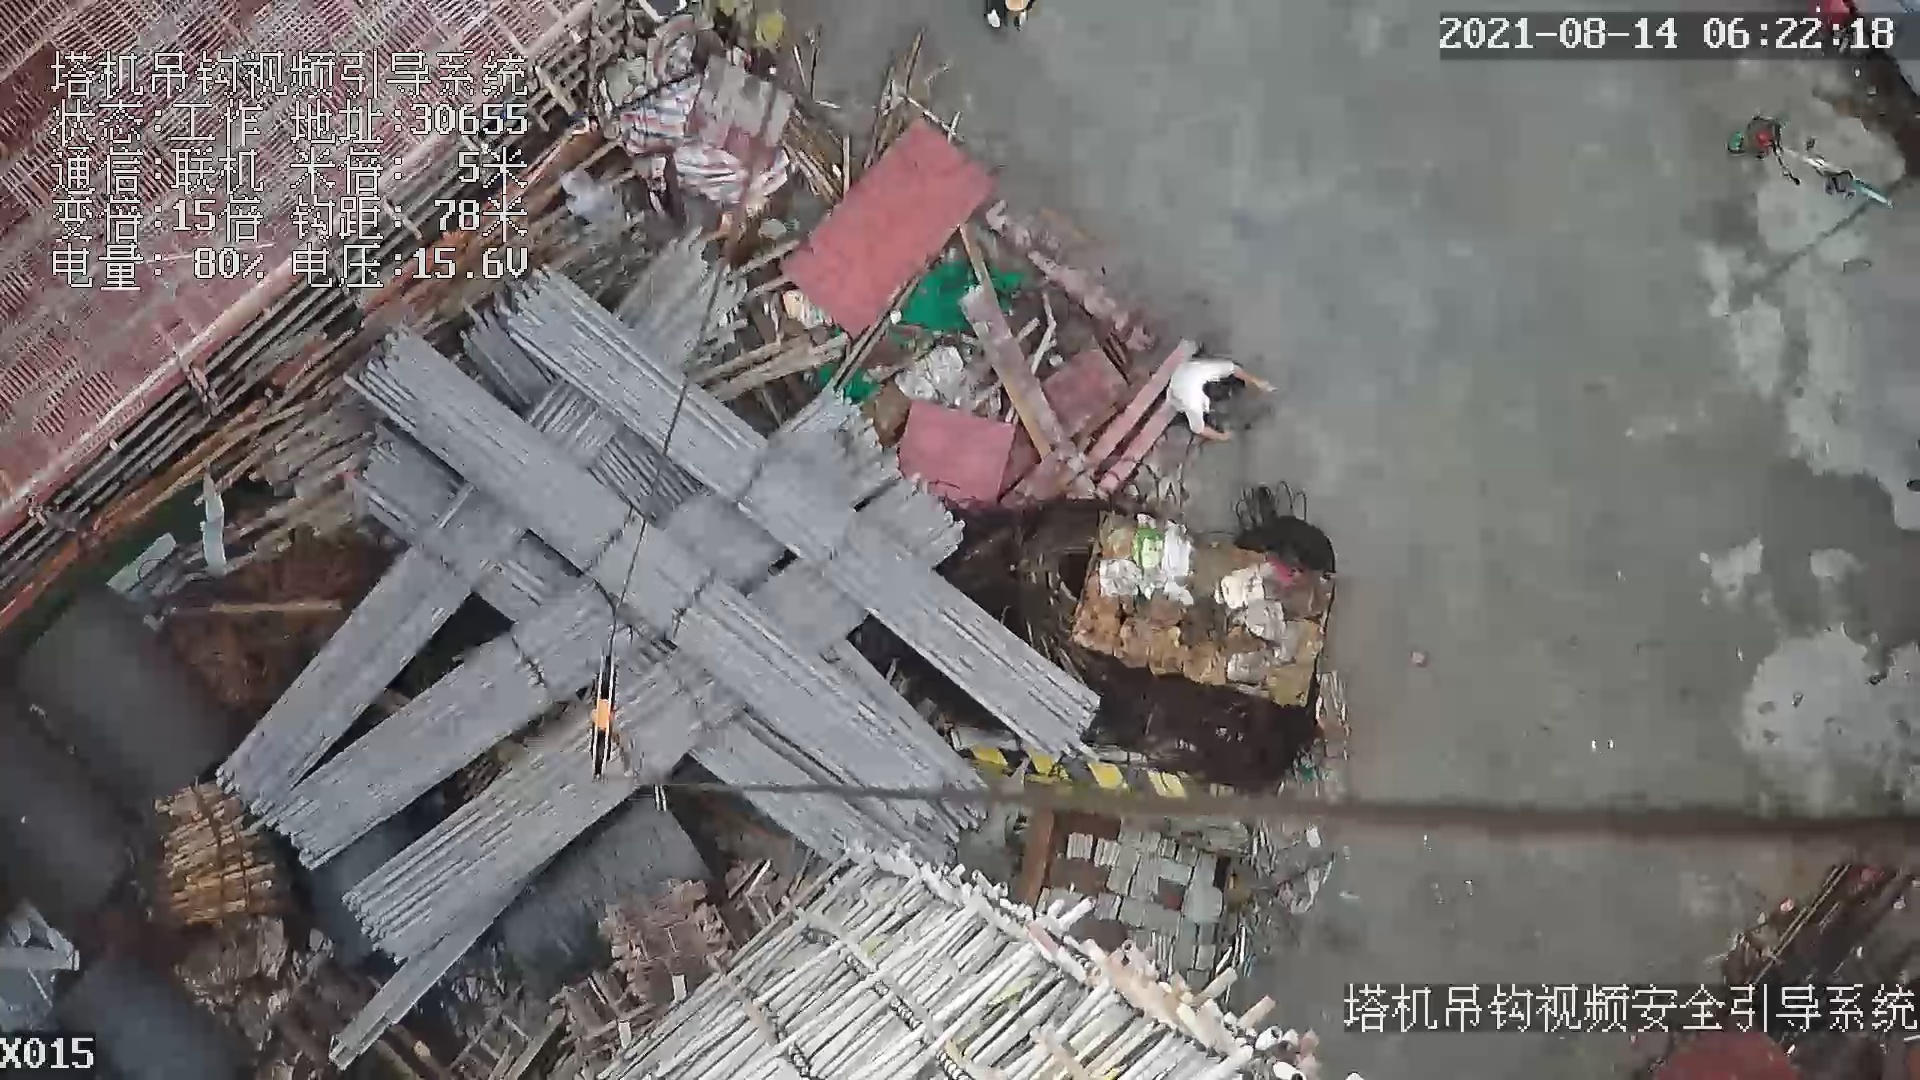hook: (582, 653, 626, 781)
person: (1166, 354, 1289, 451)
